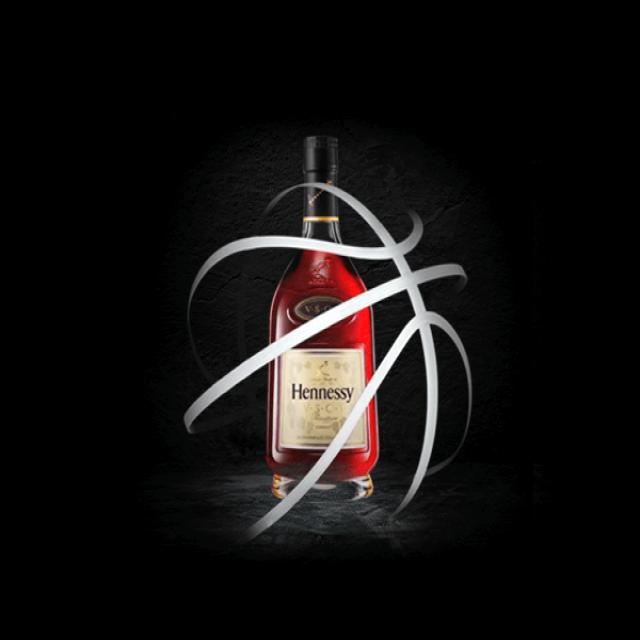Background Image: (2, 4, 636, 635)
Mascot: (181, 131, 474, 544)
QR Code: (277, 346, 367, 450)
Social Proof: (263, 133, 380, 502)
Text Elements: (284, 370, 359, 415), (289, 380, 354, 403)
